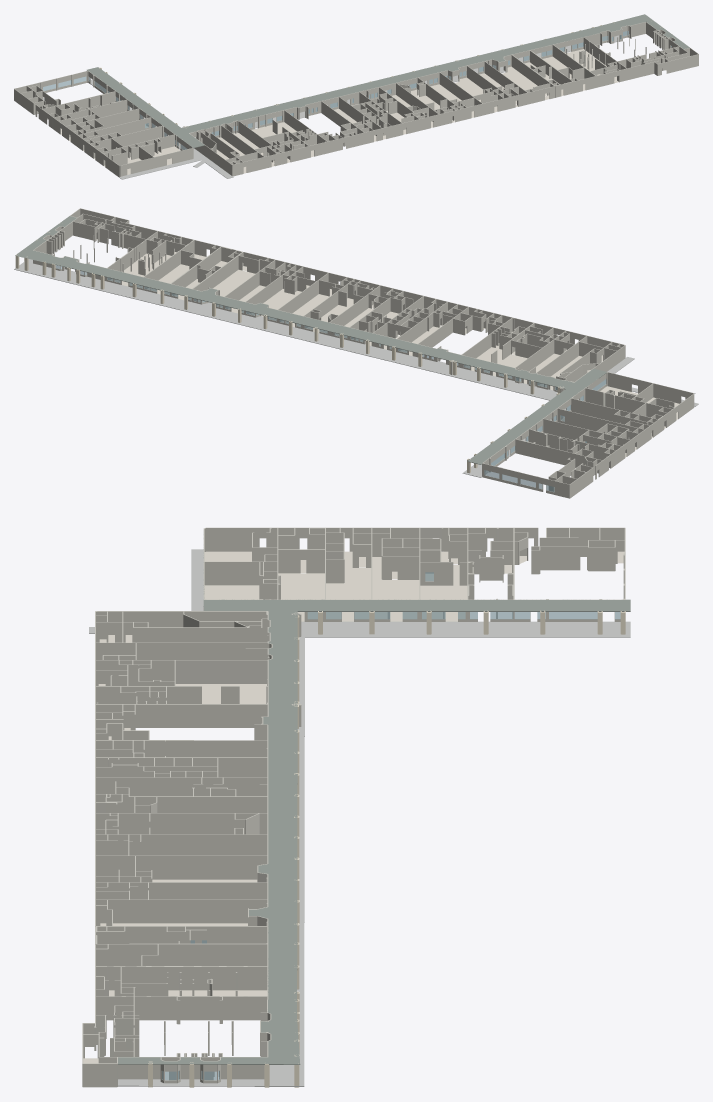
3 renders of one model, top to bottom at view 1: azimuth 30°, elevation 25°; view 2: azimuth 150°, elevation 25°; view 3: azimuth 270°, elevation 25°, orthographic. The views are drawn at different scales.
Parts seen in each view (by area): view 1: Building_Walls, Canopy_Source_Surface, Ground_Floor_Area_Planes, Walkway_Source_Surface, Window_Glazing_Proxies; view 2: Building_Walls, Canopy_Source_Surface, Walkway_Source_Surface, Ground_Floor_Area_Planes, Window_Glazing_Proxies; view 3: Building_Walls, Canopy_Source_Surface, Ground_Floor_Area_Planes, Walkway_Source_Surface, Window_Glazing_Proxies.
Part boxes in pixels (x1,y1,x2,y2): Building_Walls: (14, 22, 698, 176); Canopy_Source_Surface: (87, 14, 689, 166); Ground_Floor_Area_Planes: (61, 49, 666, 174); Walkway_Source_Surface: (89, 31, 671, 179); Window_Glazing_Proxies: (43, 31, 671, 149); Building_Walls: (33, 208, 694, 498); Canopy_Source_Surface: (15, 216, 695, 464); Walkway_Source_Surface: (14, 259, 698, 477); Ground_Floor_Area_Planes: (96, 239, 679, 491); Window_Glazing_Proxies: (55, 265, 606, 491); Building_Walls: (82, 527, 625, 1087); Canopy_Source_Surface: (118, 534, 630, 1064); Ground_Floor_Area_Planes: (83, 551, 624, 1063); Walkway_Source_Surface: (89, 549, 630, 1086); Window_Glazing_Proxies: (162, 572, 620, 1080).
Bounding box in the file's own units: 190 × 3.89 × 82.22.
